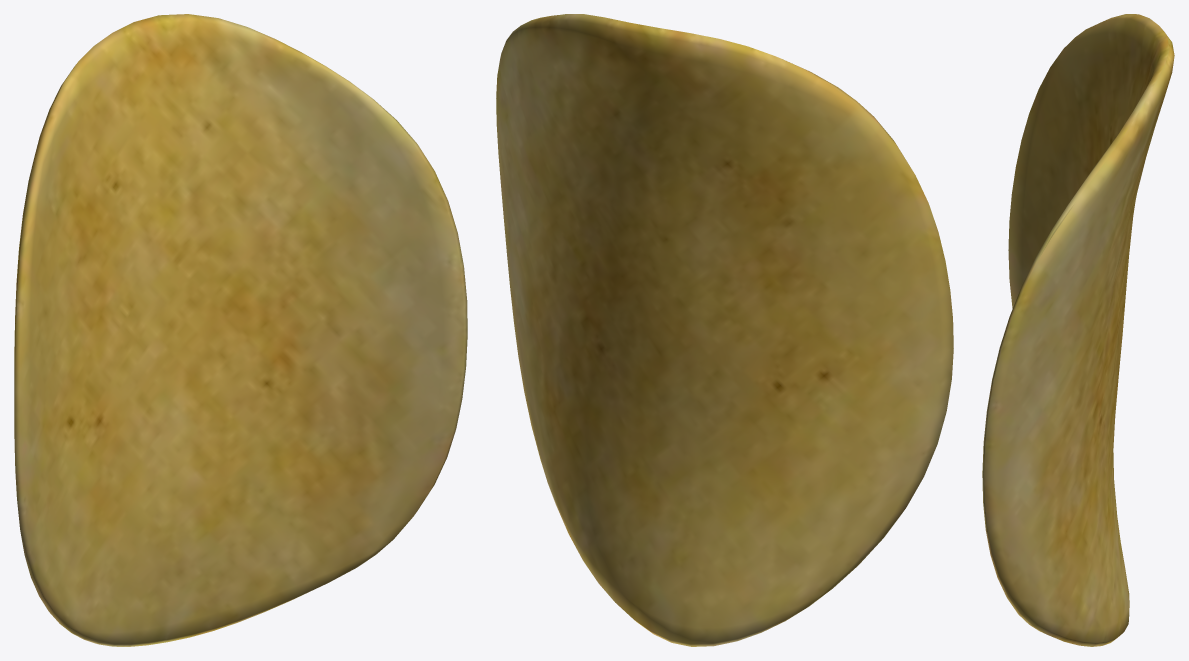
The model's file is chip.glb.
The picture shows the model from 3 angles, left to right: view 1: azimuth 30°, elevation 25°; view 2: azimuth 150°, elevation 25°; view 3: azimuth 270°, elevation 25°; orthographic projection. The views are drawn at different scales.
Parts seen in each view (by area): view 1: chips; view 2: chips; view 3: chips.
Part boxes in pixels (x1,y1,x2,y2): chips: [14, 14, 467, 646]; chips: [496, 14, 953, 646]; chips: [982, 14, 1174, 646].
Bounding box in the file's own units: 197 × 258 × 76.41.
1 material, 1 textured.
